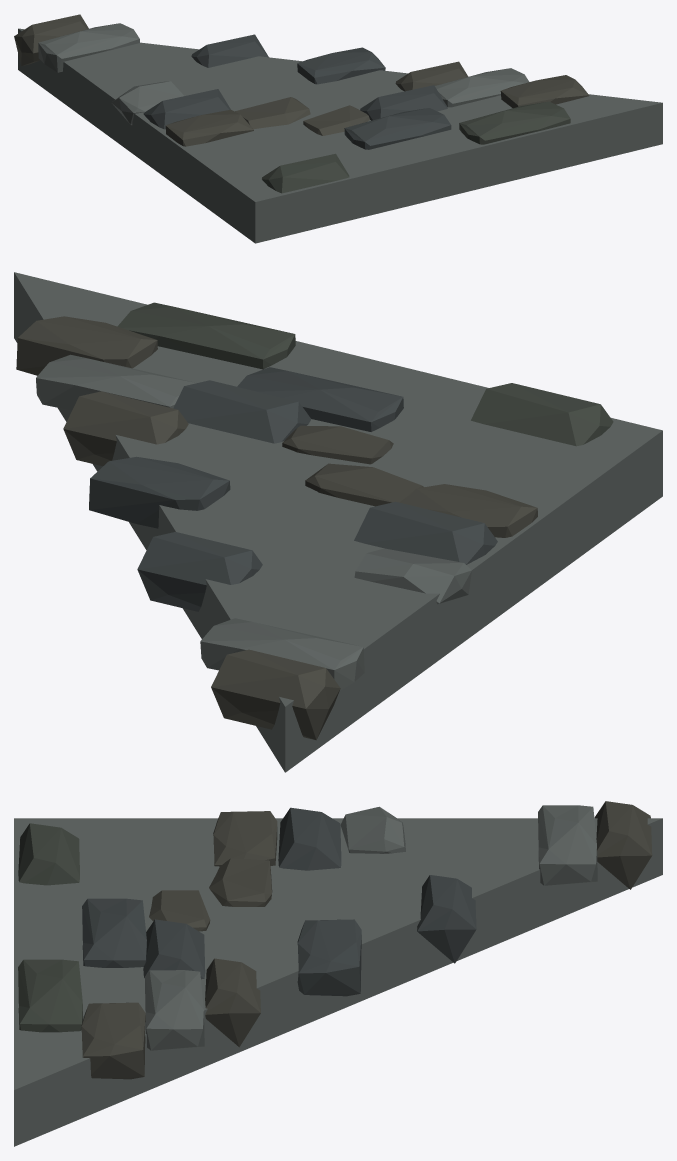
File: MCastle_Cobbles_05.FBX
3 renders of one model, top to bottom at view 1: azimuth 30°, elevation 25°; view 2: azimuth 150°, elevation 25°; view 3: azimuth 270°, elevation 25°, orthographic. The views are drawn at different scales.
Visible parts, largest first — view 1: MCastle_Cobbles_05_Base_LOD0; view 2: MCastle_Cobbles_05_Base_LOD0; view 3: MCastle_Cobbles_05_Base_LOD0.
Part boxes in pixels (x1=…): MCastle_Cobbles_05_Base_LOD0: x1=14, y1=14, x2=662, y2=243; MCastle_Cobbles_05_Base_LOD0: x1=14, y1=272, x2=662, y2=772; MCastle_Cobbles_05_Base_LOD0: x1=14, y1=801, x2=662, y2=1146.
Size of what is drawn, in the model's own units: 4.12 by 0.5243 by 4.03.
